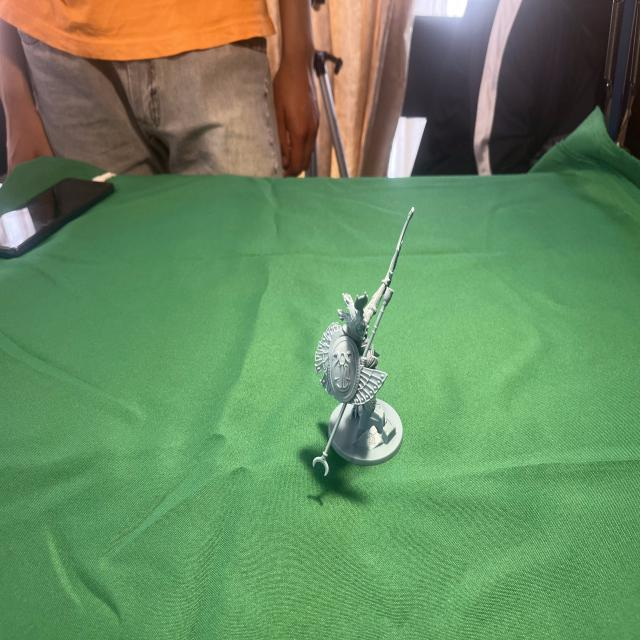isis: (309, 200, 425, 507)
